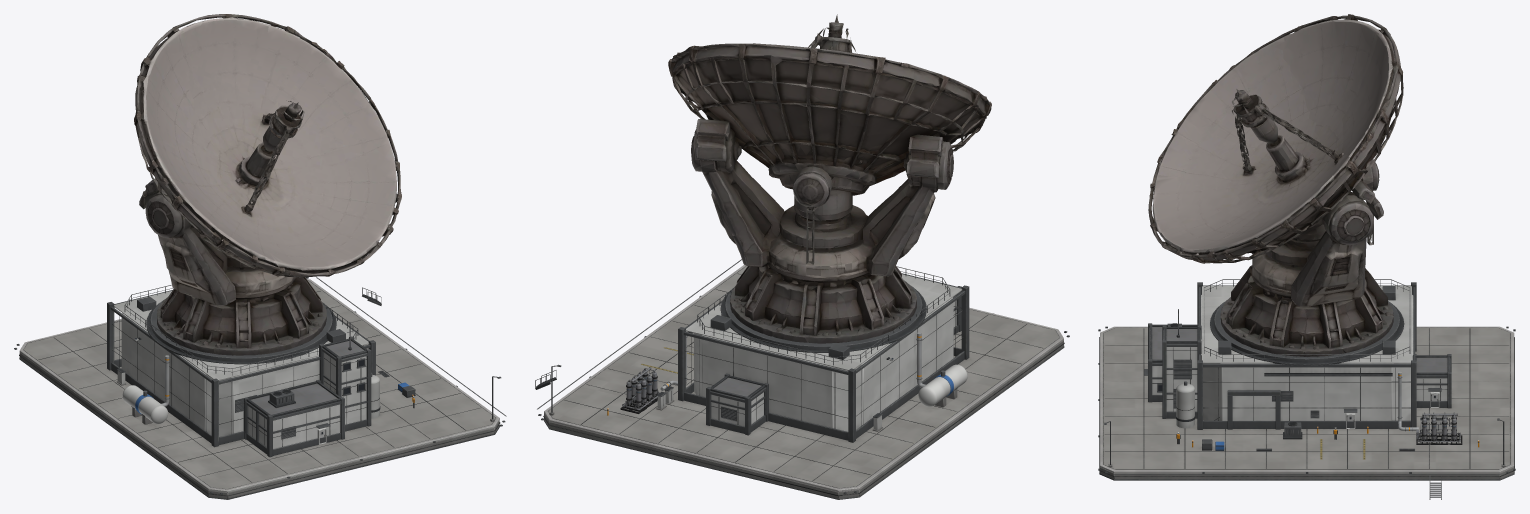
File: radio_telescope.glb
3 renders of one model, left to right at view 1: azimuth 30°, elevation 25°; view 2: azimuth 150°, elevation 25°; view 3: azimuth 270°, elevation 25°, orthographic. The views are drawn at different scales.
Visible parts, largest first — view 1: parts_colony-dishMount, hull; view 2: parts_colony-dishMount, hull, parts_colony-filterBank; view 3: hull, parts_colony-dishMount, parts_colony-filterBank.
Boxes of the visible parts, <box> form: parts_colony-dishMount: <box>134,14,401,355</box>; hull: <box>14,277,506,499</box>; parts_colony-dishMount: <box>668,14,991,343</box>; hull: <box>535,259,1069,499</box>; parts_colony-filterBank: <box>620,367,659,413</box>; hull: <box>1098,279,1515,499</box>; parts_colony-dishMount: <box>1148,14,1403,356</box>; parts_colony-filterBank: <box>1416,412,1462,444</box>.
Size of the model in its own units: 54.28 by 55.3 by 58.42.
Materials: 6 (6 with a texture image).
